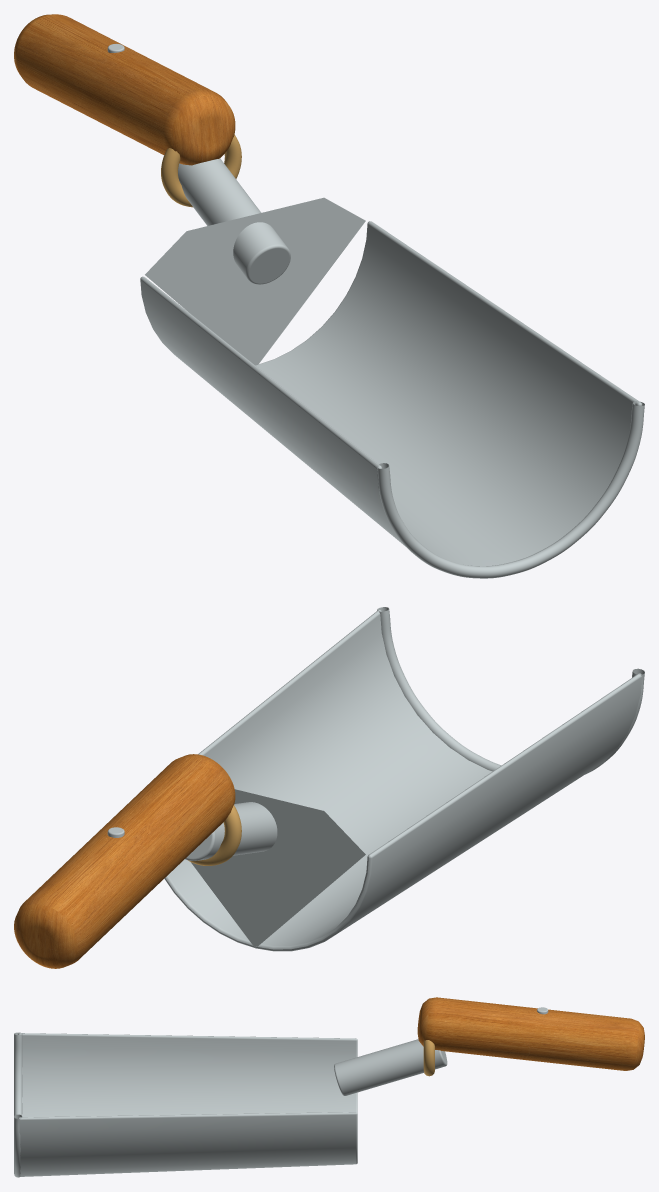
File: Scoop.fbx
3 views of the same model, one above another, from view 1: azimuth 30°, elevation 25°; view 2: azimuth 150°, elevation 25°; view 3: azimuth 270°, elevation 25° (orthographic). The views are drawn at different scales.
Parts seen in each view (by area): view 1: Scoop_Body; view 2: Scoop_Body; view 3: Scoop_Body.
Boxes of the visible parts, box(x1,y1,x2,y2) form: Scoop_Body: box(14, 14, 644, 578); Scoop_Body: box(14, 607, 644, 968); Scoop_Body: box(14, 997, 644, 1177).
Bounding box in the file's own units: 0.1084 × 0.0983 × 0.3345.
